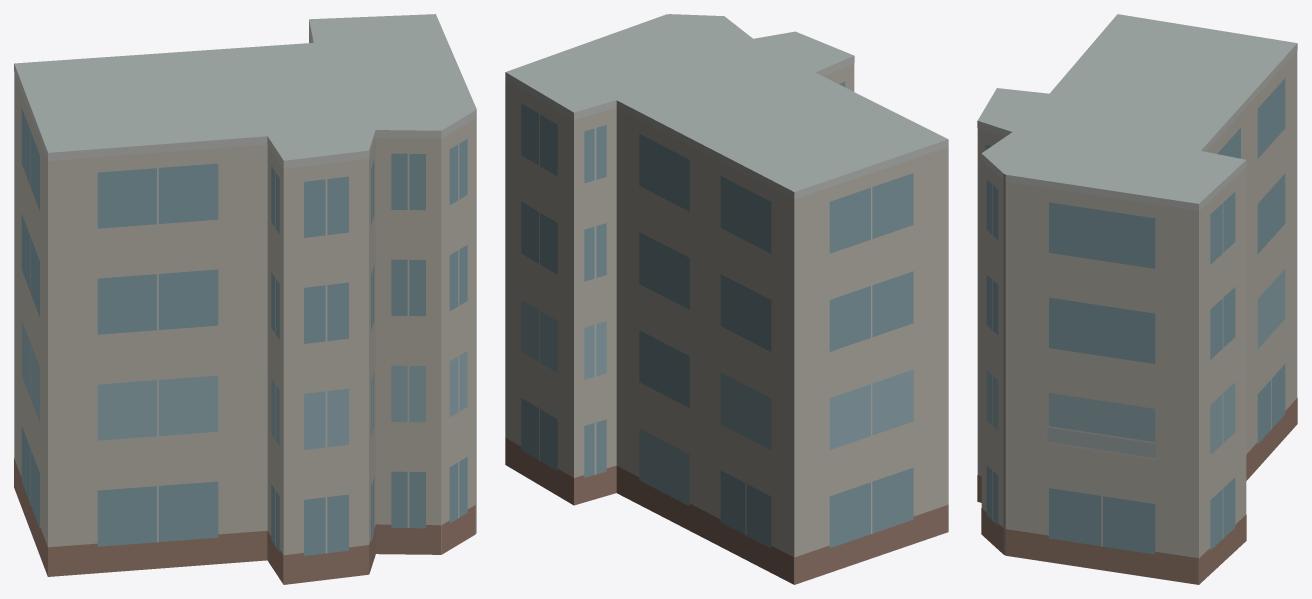
File: survey-upis-32471864.glb
3 views of the same model, side by side, from view 1: azimuth 30°, elevation 25°; view 2: azimuth 150°, elevation 25°; view 3: azimuth 270°, elevation 25° (orthographic). The views are drawn at different scales.
Parts seen in each view (by area): view 1: survey-upis-32471864.tmp; view 2: survey-upis-32471864.tmp; view 3: survey-upis-32471864.tmp.
Boxes of the visible parts, box(x1,y1,x2,y2) form: survey-upis-32471864.tmp: box(14, 14, 476, 584); survey-upis-32471864.tmp: box(505, 14, 948, 584); survey-upis-32471864.tmp: box(977, 14, 1297, 584).
Size of the model in its own units: 13.8 by 12.9 by 9.83.
